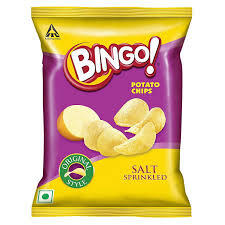VEG: (38, 188, 54, 204)
